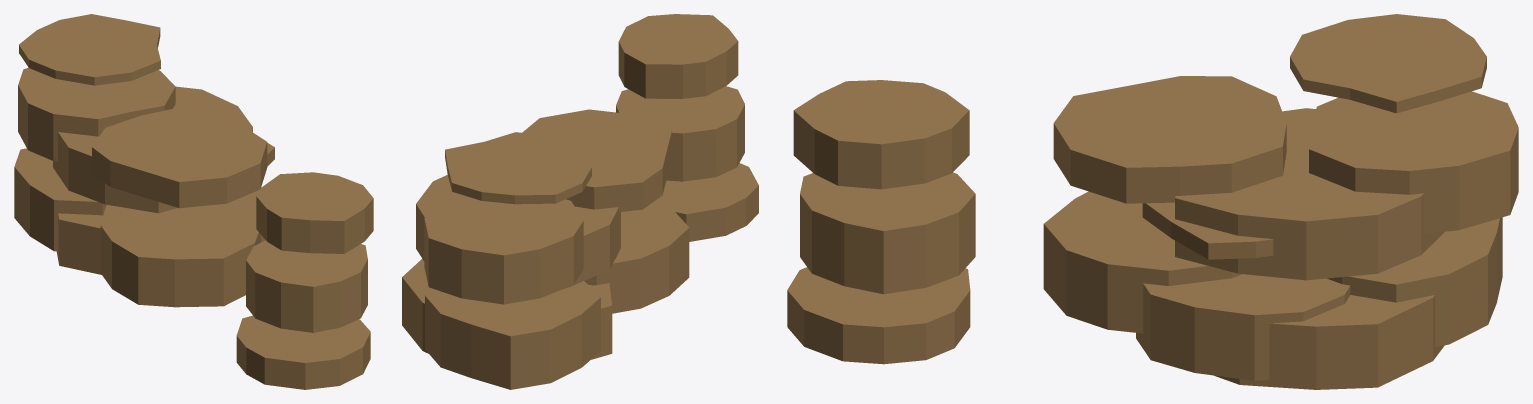
The model's file is MesasW_RockBand.fbx.
The picture shows the model from 3 angles, left to right: view 1: azimuth 30°, elevation 25°; view 2: azimuth 150°, elevation 25°; view 3: azimuth 270°, elevation 25°; orthographic projection. The views are drawn at different scales.
Visible parts, largest first — view 1: MesaW0_1.001; view 2: MesaW0_1.001; view 3: MesaW0_1.001.
Boxes of the visible parts, box(x1,y1,x2,y2) form: MesaW0_1.001: box(14, 14, 373, 389); MesaW0_1.001: box(402, 14, 758, 389); MesaW0_1.001: box(787, 14, 1518, 389).
Size of the model in its own units: 6609 by 6390 by 16688.
